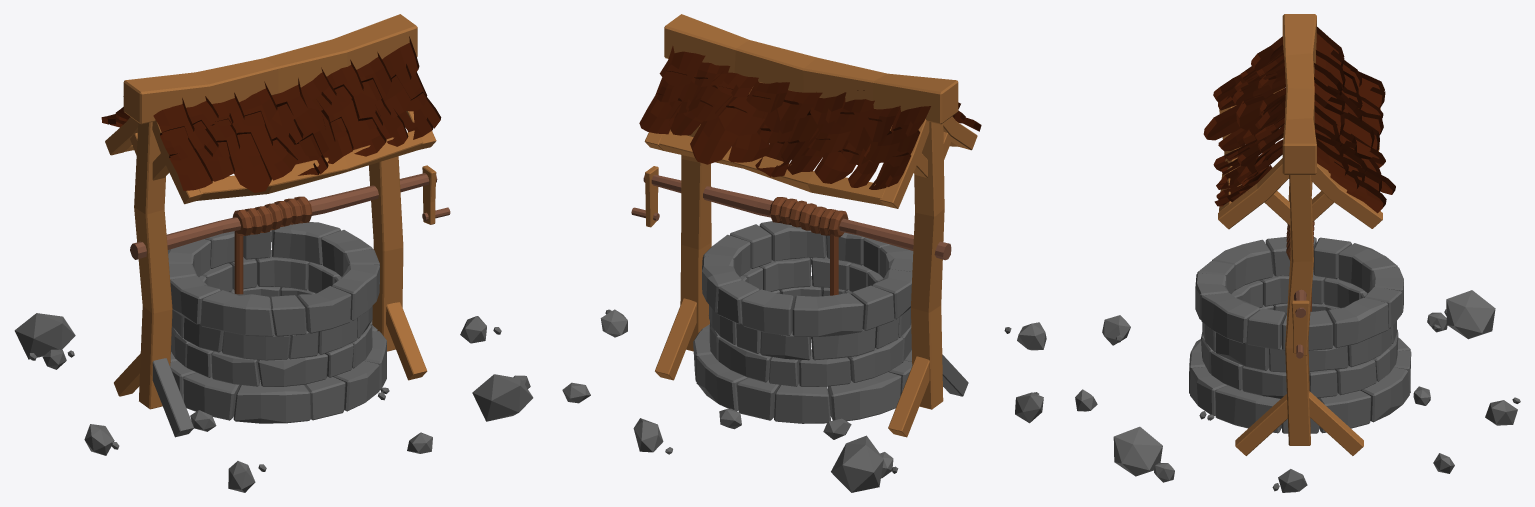
Rendered from low_poly_well4_oli_added_colors.fbx.
The picture shows the model from 3 angles, left to right: view 1: azimuth 30°, elevation 25°; view 2: azimuth 150°, elevation 25°; view 3: azimuth 270°, elevation 25°; orthographic projection. The views are drawn at different scales.
Visible parts, largest first — view 1: Plane.024, Cube.006, Cube.005, Cube.004, Cube.011, Cylinder, Cube.022, Cube, Cylinder.002, Cube.028, Icosphere.010, Cube.066 (+32 smaller); view 2: Plane.000, Cube.006, Cube.005, Cube.004, Cube.012, Cylinder, Cube.031, Cube.064, Icosphere.003, Cube.063, Cube.030, Cylinder.002 (+34 smaller); view 3: Plane.000, Plane.024, Cube.004, Cube.006, Cube.028, Cube.025, Cube.058, Icosphere.003, Icosphere.010, Cube.022, Cube.031, Cube.010 (+30 smaller).
Part boxes in pixels (x1=…): Plane.024: x1=153, y1=36, x2=441, y2=192; Cube.006: x1=123, y1=14, x2=417, y2=124; Cube.005: x1=134, y1=122, x2=172, y2=409; Cube.004: x1=369, y1=156, x2=403, y2=351; Cube.011: x1=196, y1=130, x2=422, y2=200; Cylinder: x1=130, y1=173, x2=437, y2=259; Cube.022: x1=200, y1=290, x2=274, y2=336; Cube: x1=233, y1=380, x2=310, y2=423; Cylinder.002: x1=232, y1=196, x2=312, y2=235; Cube.028: x1=271, y1=222, x2=340, y2=264; Icosphere.010: x1=472, y1=374, x2=533, y2=421; Cube.066: x1=183, y1=372, x2=240, y2=420; Plane.000: x1=639, y1=46, x2=930, y2=189; Cube.006: x1=664, y1=14, x2=958, y2=124; Cube.005: x1=911, y1=122, x2=944, y2=409; Cube.004: x1=680, y1=124, x2=711, y2=351; Cube.012: x1=659, y1=131, x2=885, y2=205; Cylinder: x1=643, y1=174, x2=951, y2=260; Cube.031: x1=792, y1=293, x2=863, y2=336; Cube.064: x1=827, y1=372, x2=901, y2=421; Icosphere.003: x1=831, y1=435, x2=883, y2=492; Cube.063: x1=774, y1=383, x2=830, y2=423; Cube.030: x1=741, y1=289, x2=793, y2=335; Cylinder.002: x1=769, y1=197, x2=848, y2=237; Plane.000: x1=1314, y1=26, x2=1395, y2=213; Plane.024: x1=1203, y1=36, x2=1285, y2=206; Cube.004: x1=1285, y1=175, x2=1313, y2=445; Cube.006: x1=1282, y1=14, x2=1316, y2=174; Cube.028: x1=1328, y1=298, x2=1388, y2=348; Cube.025: x1=1201, y1=292, x2=1260, y2=343; Cube.058: x1=1215, y1=385, x2=1281, y2=433; Icosphere.003: x1=1446, y1=290, x2=1495, y2=339; Icosphere.010: x1=1113, y1=426, x2=1162, y2=476; Cube.022: x1=1212, y1=239, x2=1273, y2=290; Cube.031: x1=1338, y1=243, x2=1397, y2=293; Cube.010: x1=1218, y1=158, x2=1288, y2=229.
Bounding box in the file's own units: 2923 × 2228 × 2771.
